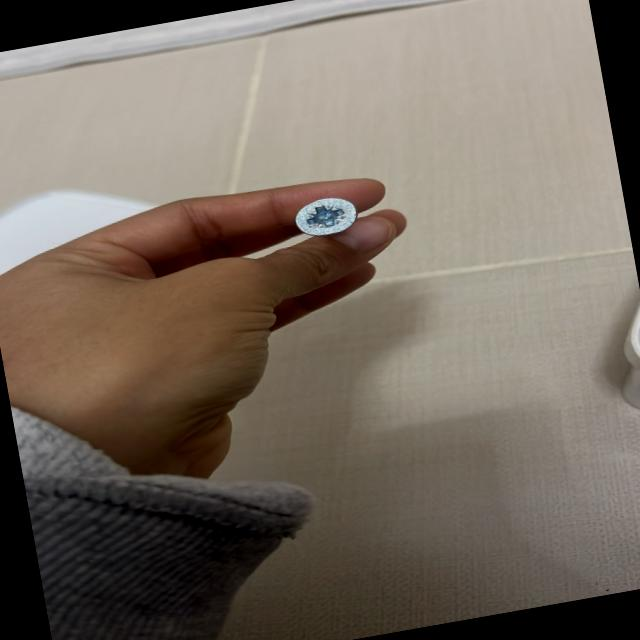Pozidriv: (285, 192, 372, 240)
